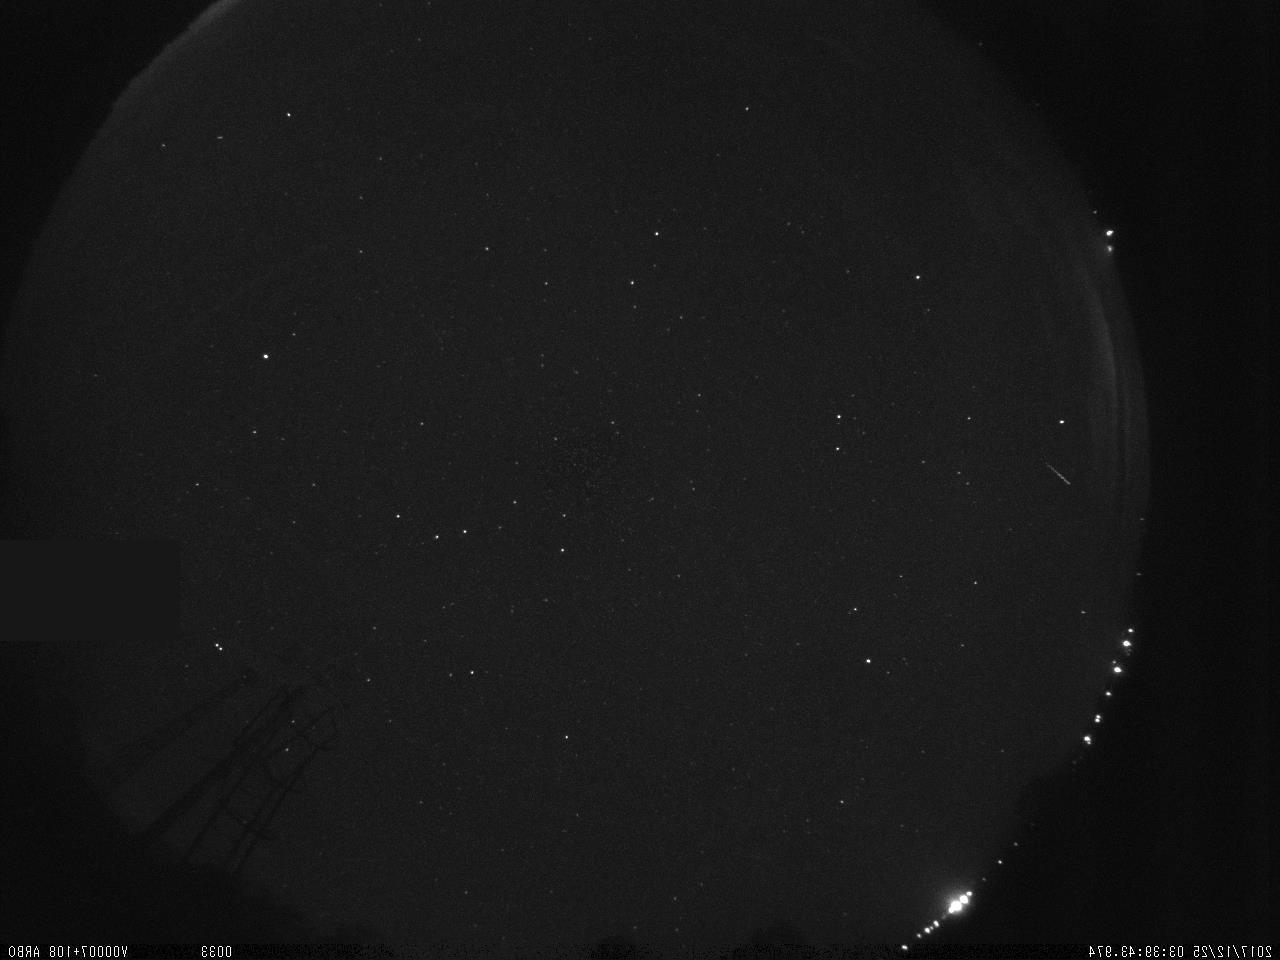meteor: (1037, 448, 1079, 496)
